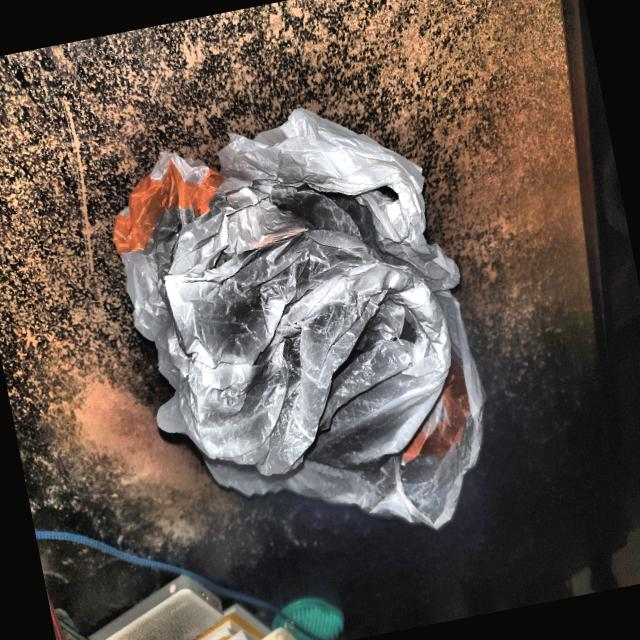plastic bag: (85, 67, 521, 598)
